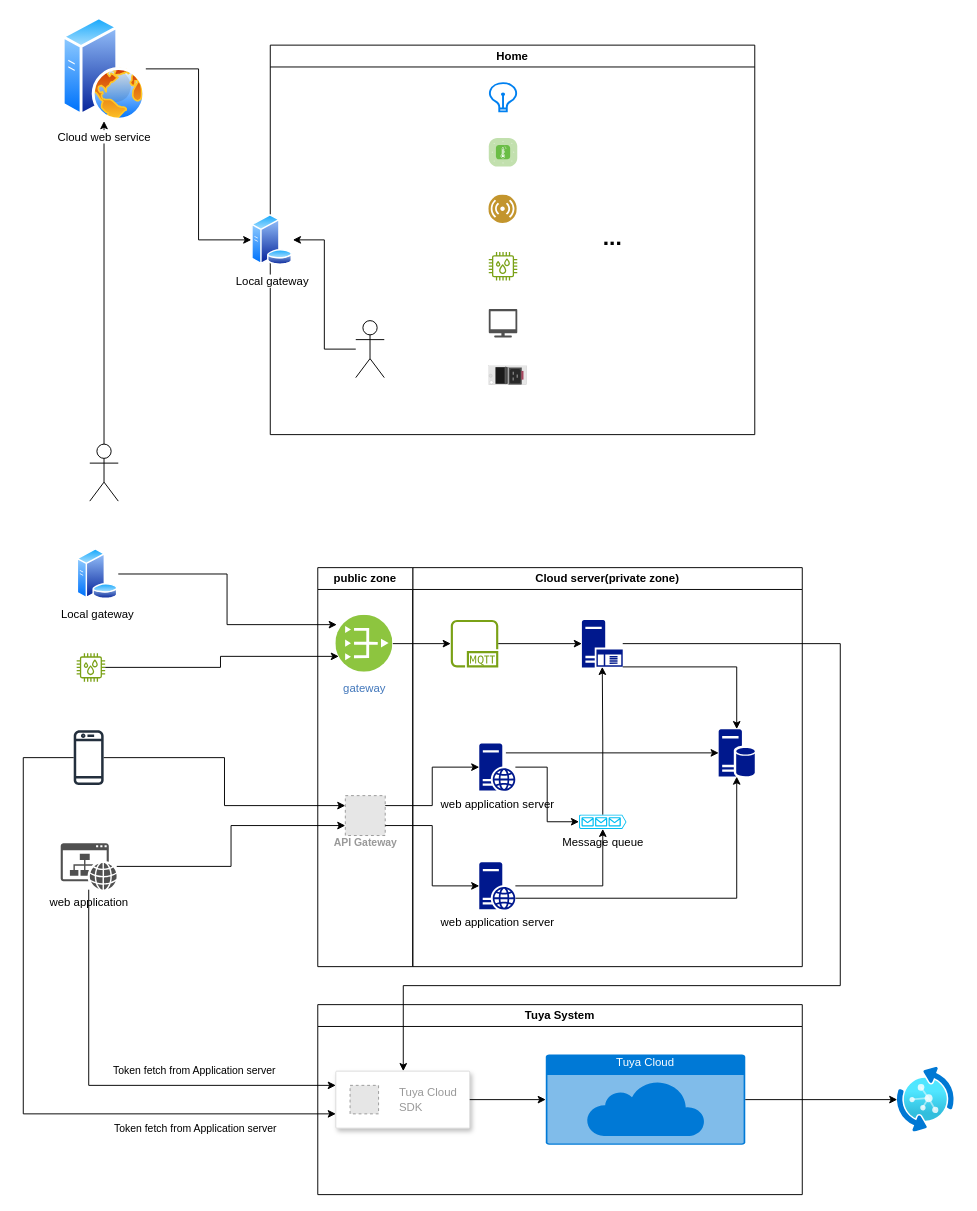
The diagram is 977 pixels wide and 1211 high, and some of its shapes have lost their labels. Grey dashed boxes stand in for pictures. Each missing label, with the centre of its shape:
"Application server" goes at point 601,643.
"database(multi-region)" goes at point 736,752.
"Inside house user" goes at point 369,349.
"Mobile application" goes at point 88,757.
"Outside house user" goes at point 103,472.
"Single devices" goes at point 90,667.
"Tuya Devices" goes at point 925,1099.
